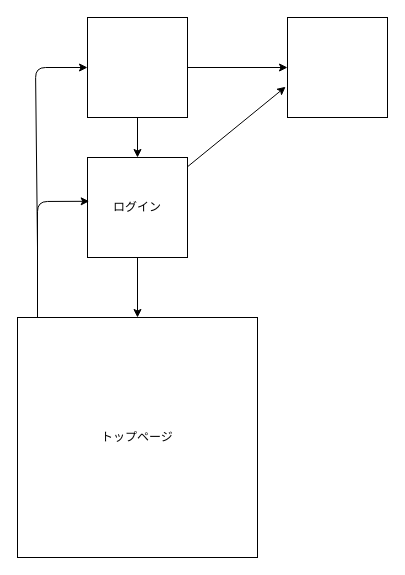
Some shapes in this 405 by 575 pixel diagram are drawn without their labels. The shapes that lost their labels are listed below. From the top down, each one's centre as x and y in pixels, then its label:
point 137,67: 新規登録
point 337,67: ユーザー情報
